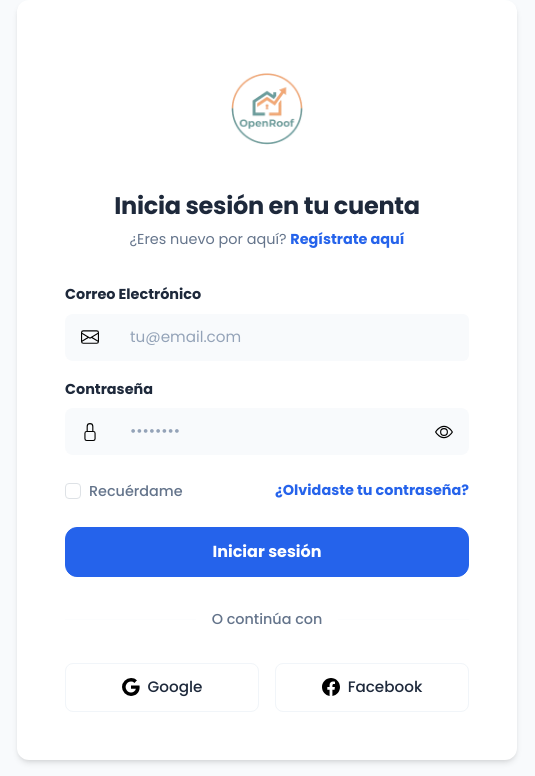
Test: User Authentication Flow › debe mostrar un error con credenciales incorrectas
This screenshot has width=535, height=776.
Ingresamos datos que sabemos que fallarán en el sistema real
Type "correo_no_existente_12345@openroof.com" into the field named "email".
click(292, 338); type("correo_no_existente_12345@openroof.com")  # box [114, 314, 469, 361]
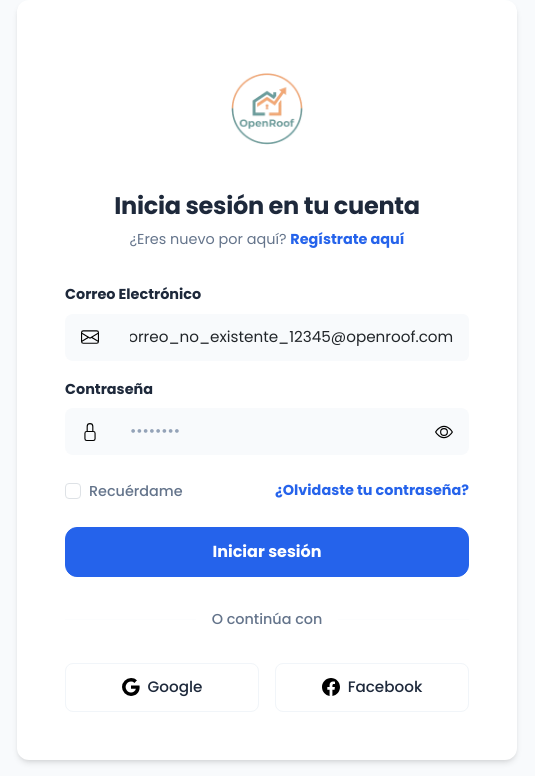
Type "PasswordFalso123!" into the password field named "password".
click(267, 432); type("PasswordFalso123!")  # box [114, 408, 420, 455]
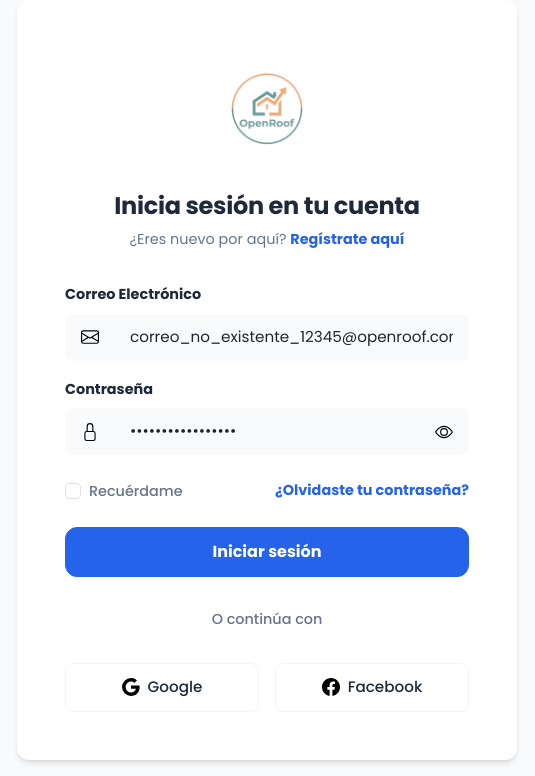
Click the submit button.
click(267, 552)  # box [65, 527, 469, 577]
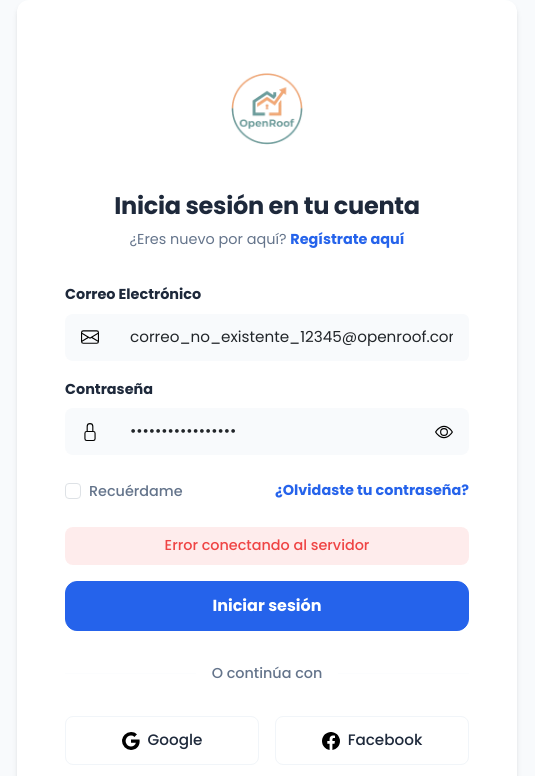
Now the message "Error conectando al servidor" is shown, box [65, 527, 469, 565]
